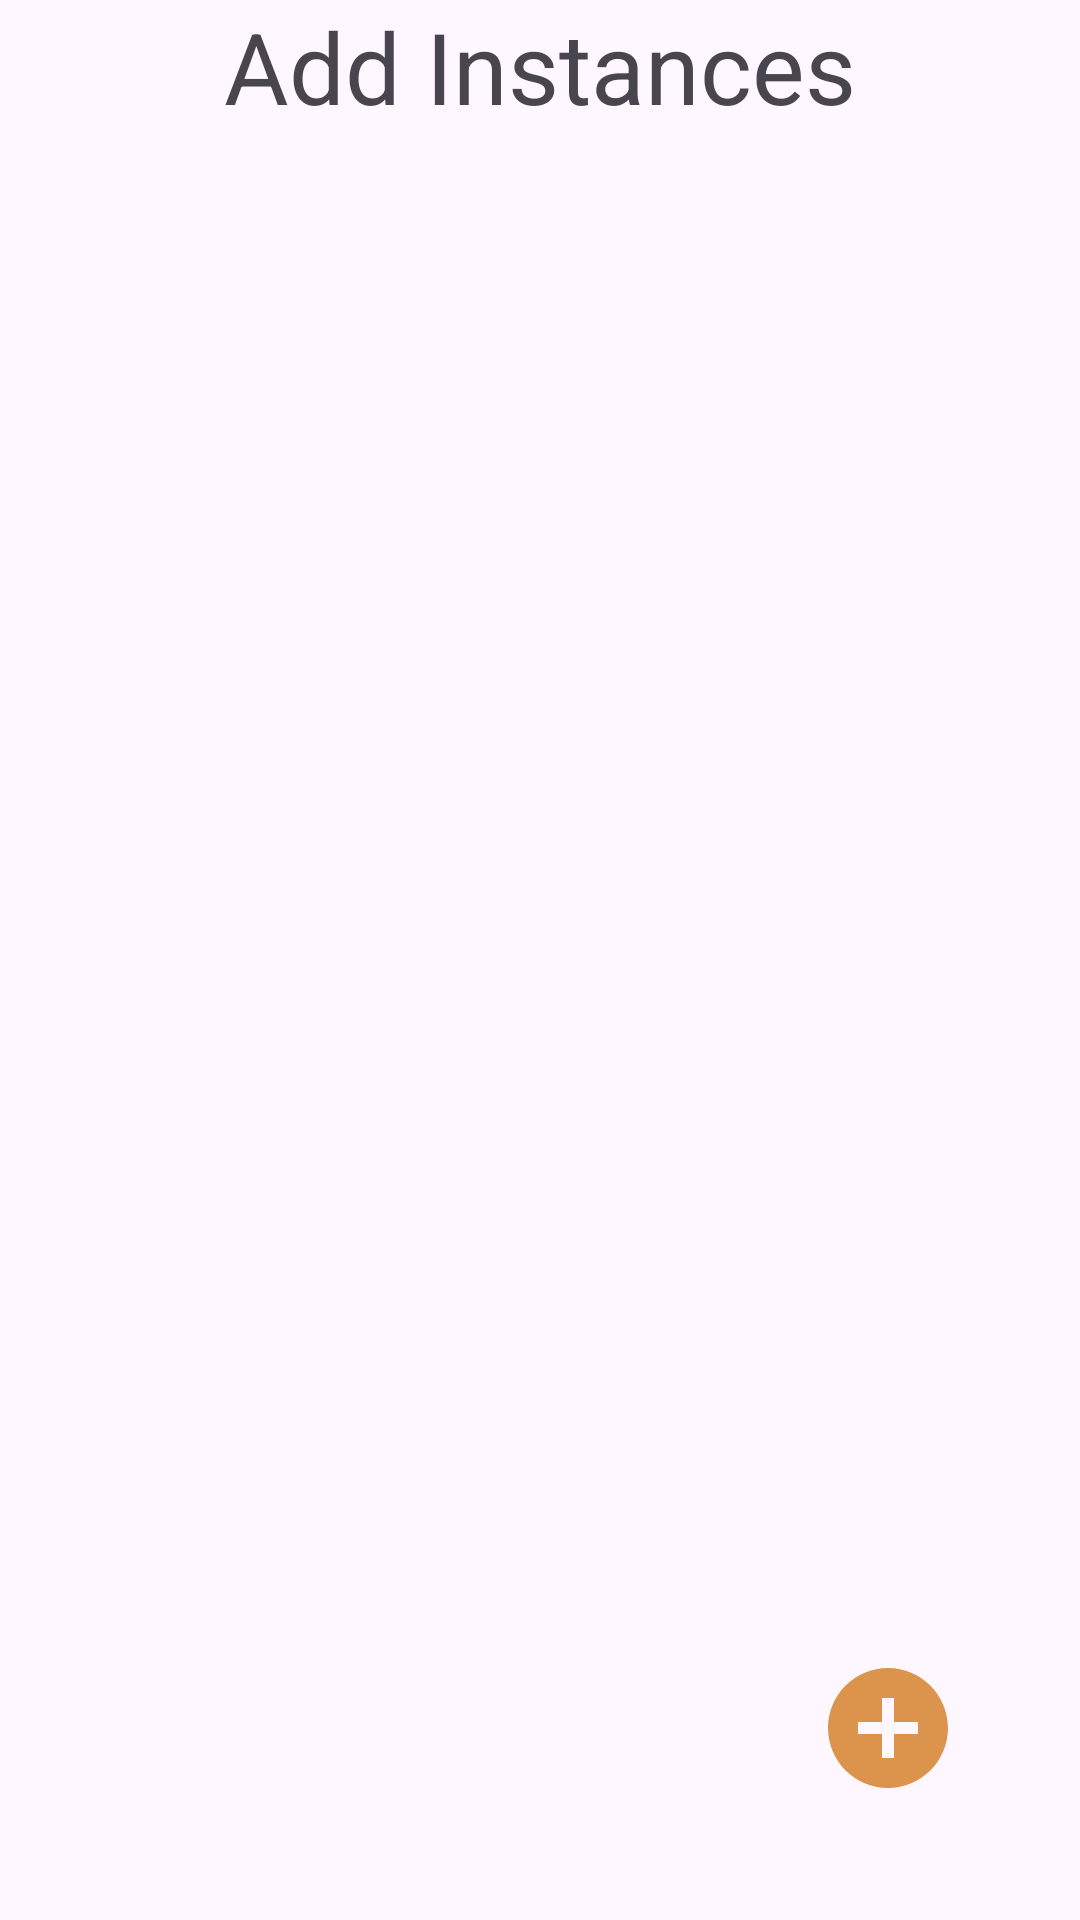

Icon bounding boxes for this 1080px x 1920px phone screenshot, format region(x1, y1, x2, y2):
add circle: region(828, 1668, 948, 1788)
